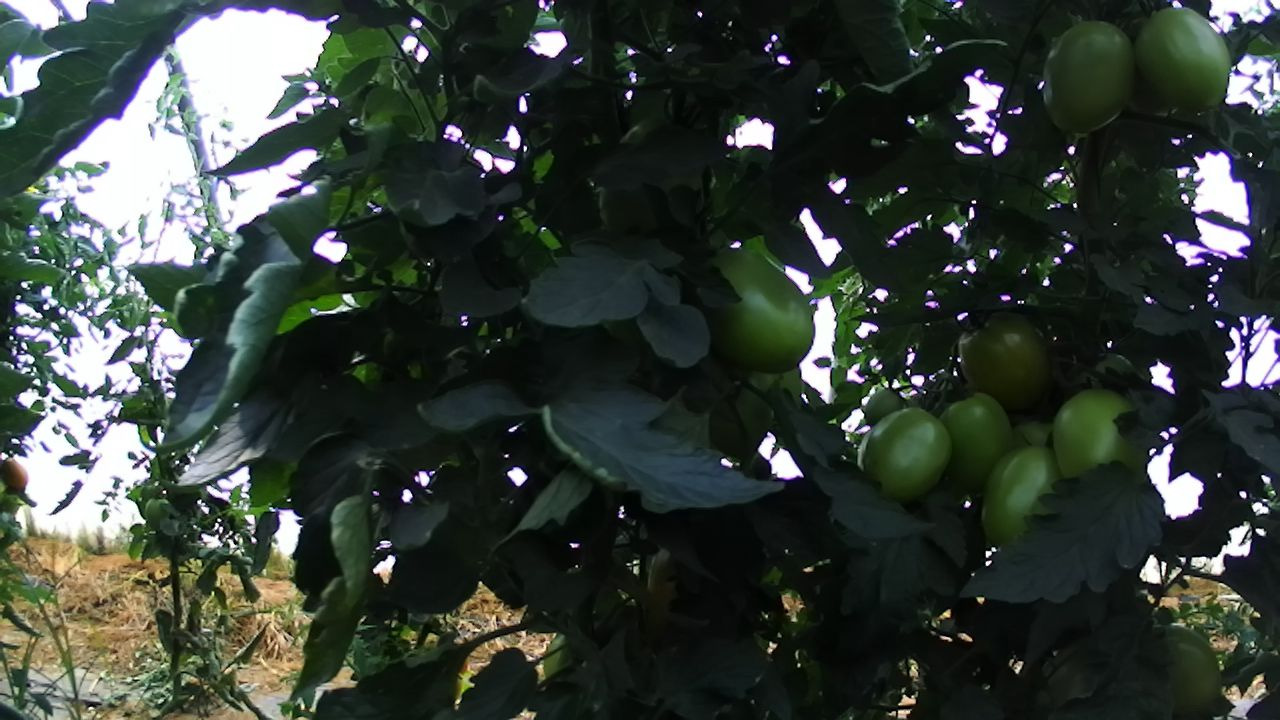tomato: (691, 238, 820, 382), (1037, 16, 1139, 140), (1044, 381, 1159, 489), (1130, 1, 1232, 117), (948, 303, 1054, 412), (859, 398, 958, 499), (978, 441, 1065, 555), (934, 385, 1022, 494), (1146, 619, 1230, 716), (0, 456, 31, 493)
